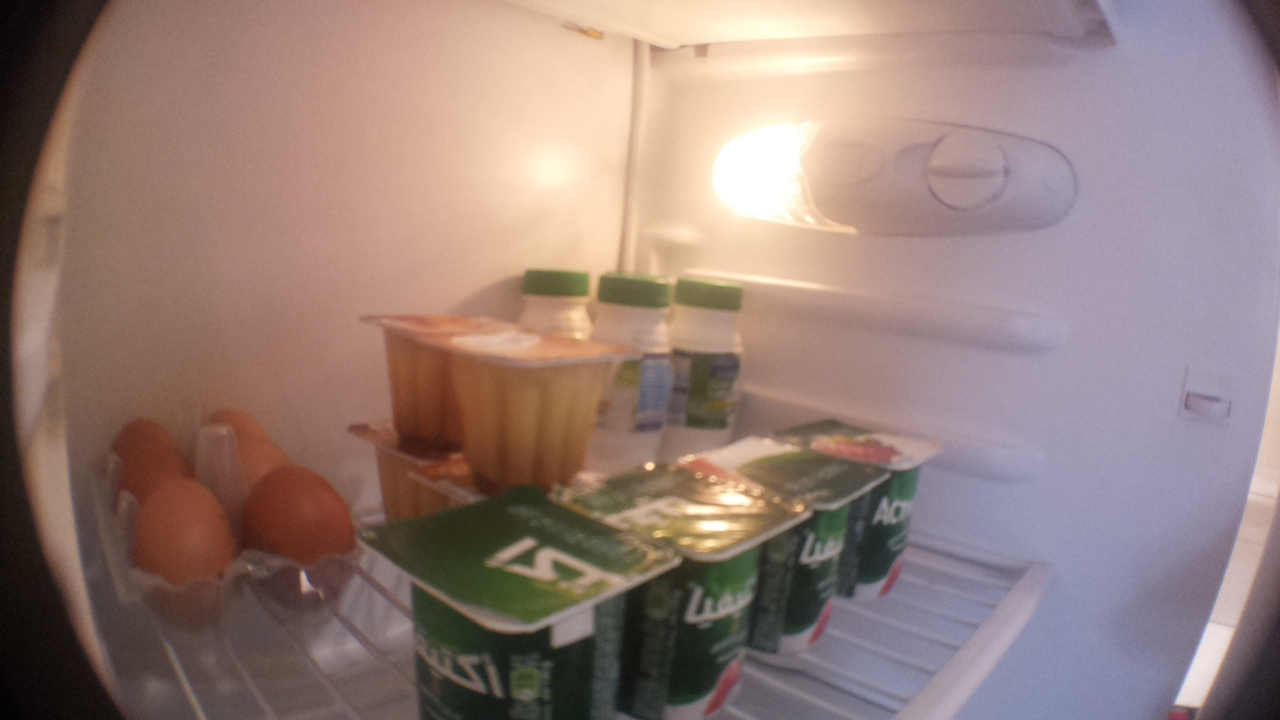caramel: (455, 322, 636, 494), (350, 299, 478, 457), (348, 407, 436, 517)
egg: (115, 480, 245, 630), (240, 466, 361, 626), (215, 437, 308, 508), (99, 448, 199, 496), (100, 415, 178, 461), (201, 403, 266, 452)
laban: (595, 262, 673, 469), (674, 265, 754, 460), (513, 267, 599, 332)
yoghurt: (394, 521, 636, 720), (591, 477, 775, 720), (699, 444, 858, 658), (785, 416, 933, 600)
